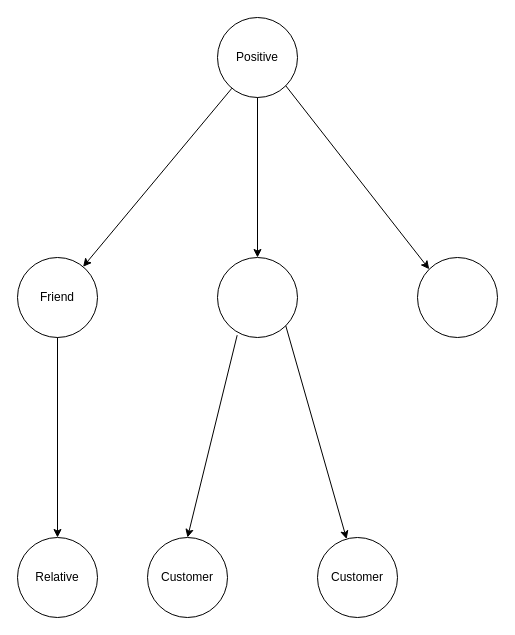
Image size: 515x635. Some labels were removed from this diagram. Each missing label, with the box of its shape:
Grocery Store Clerk: (216, 256, 298, 338)
Housemates: (416, 256, 498, 338)
